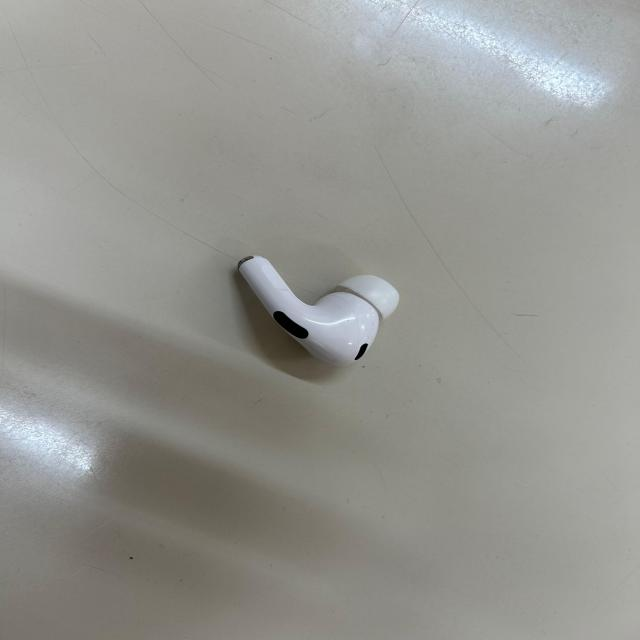inorganic: (239, 254, 400, 366)
